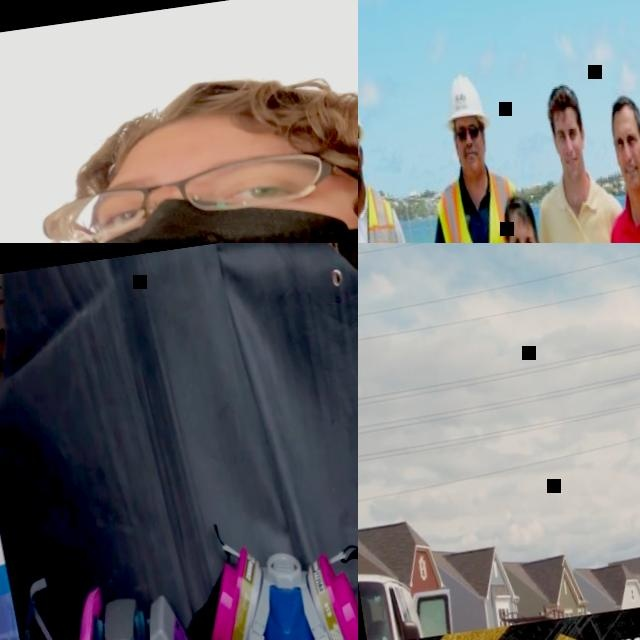Hardhat: (438, 75, 490, 130)
Mask: (64, 166, 358, 243), (196, 531, 358, 640), (54, 571, 215, 640)
NO-Hardhat: (80, 50, 358, 183), (542, 82, 583, 117), (501, 195, 535, 233), (607, 92, 640, 128)
NO-Mask: (456, 147, 486, 181), (560, 150, 584, 182), (619, 163, 640, 198), (358, 159, 367, 188)
NO-Safety Vest: (543, 185, 634, 243)
Person: (0, 27, 358, 243), (396, 71, 564, 243), (509, 76, 640, 243), (358, 73, 450, 243)
Safety Vest: (432, 168, 539, 243)
